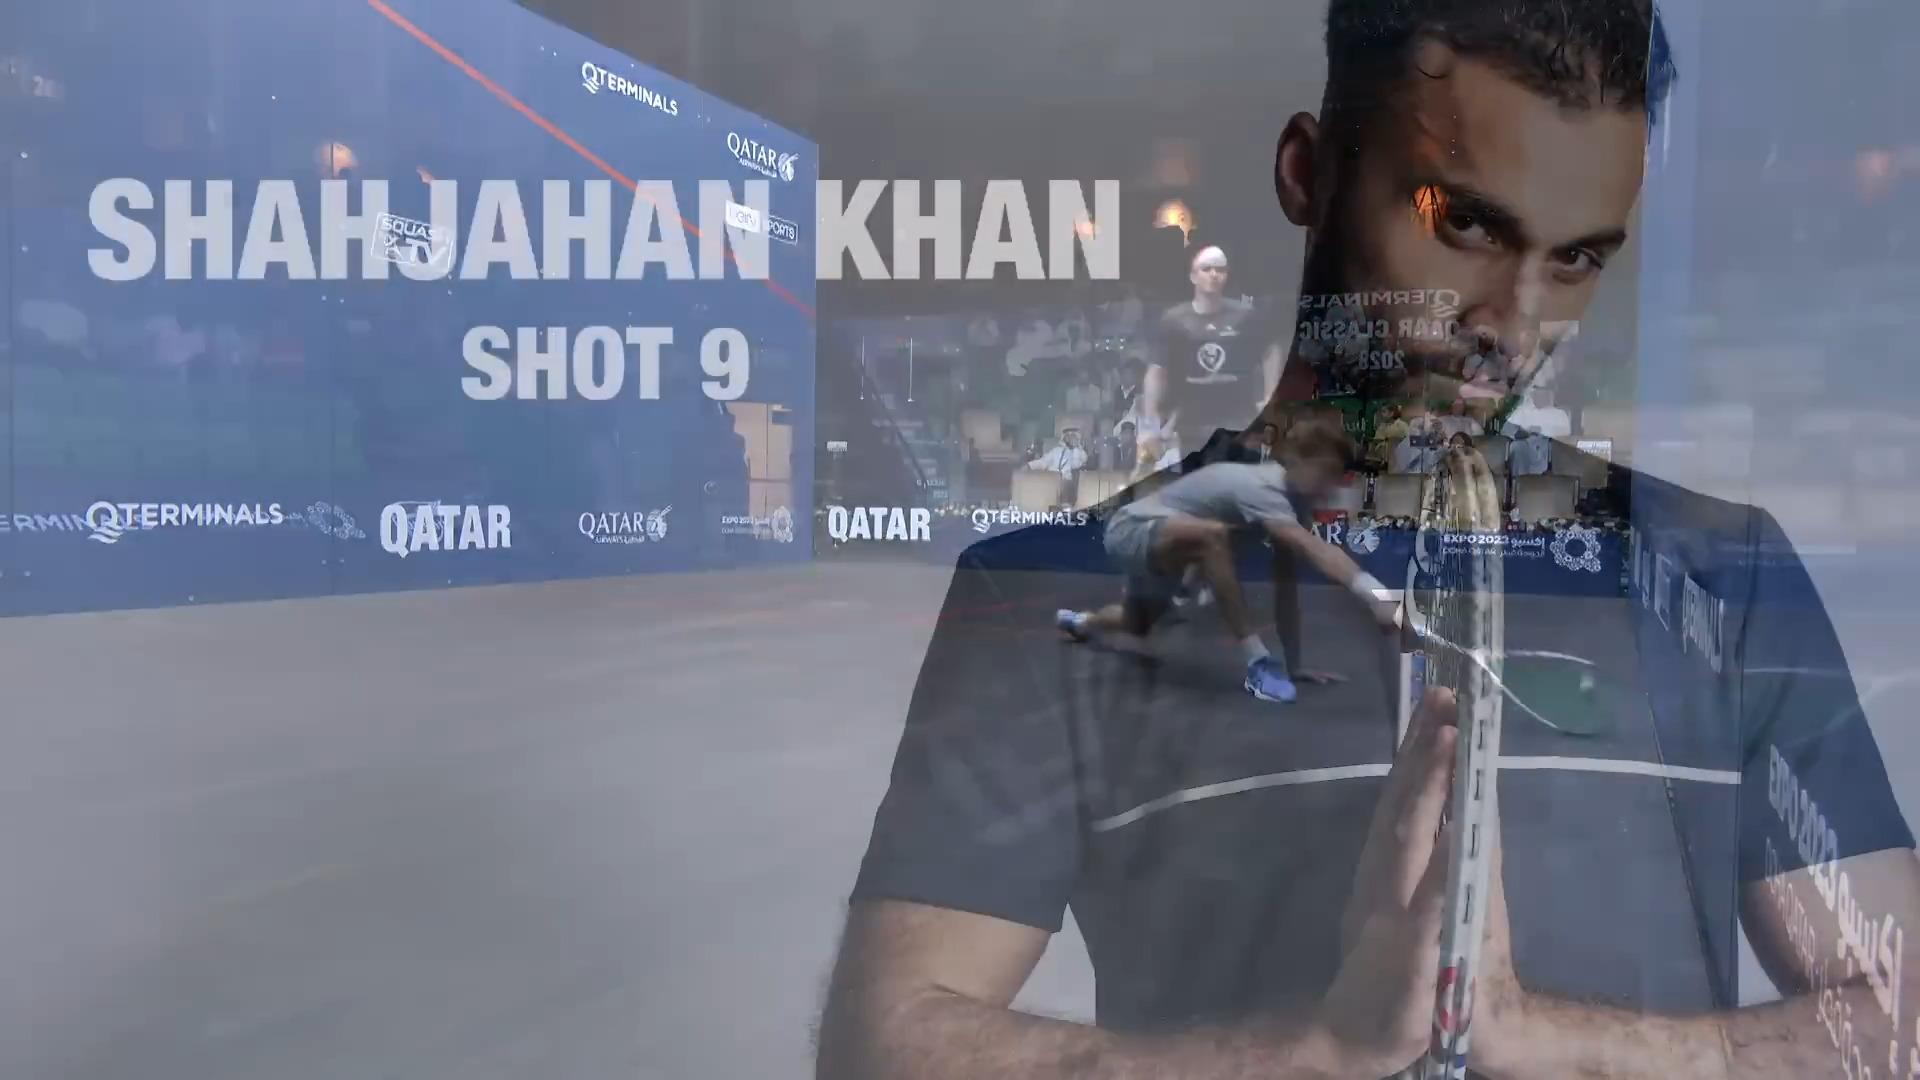Racket: (1422, 624, 1622, 753)
